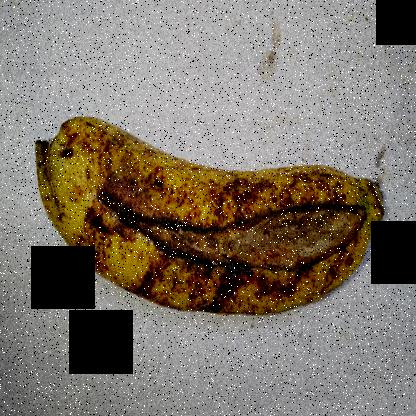rotten: (87, 169, 385, 287)
